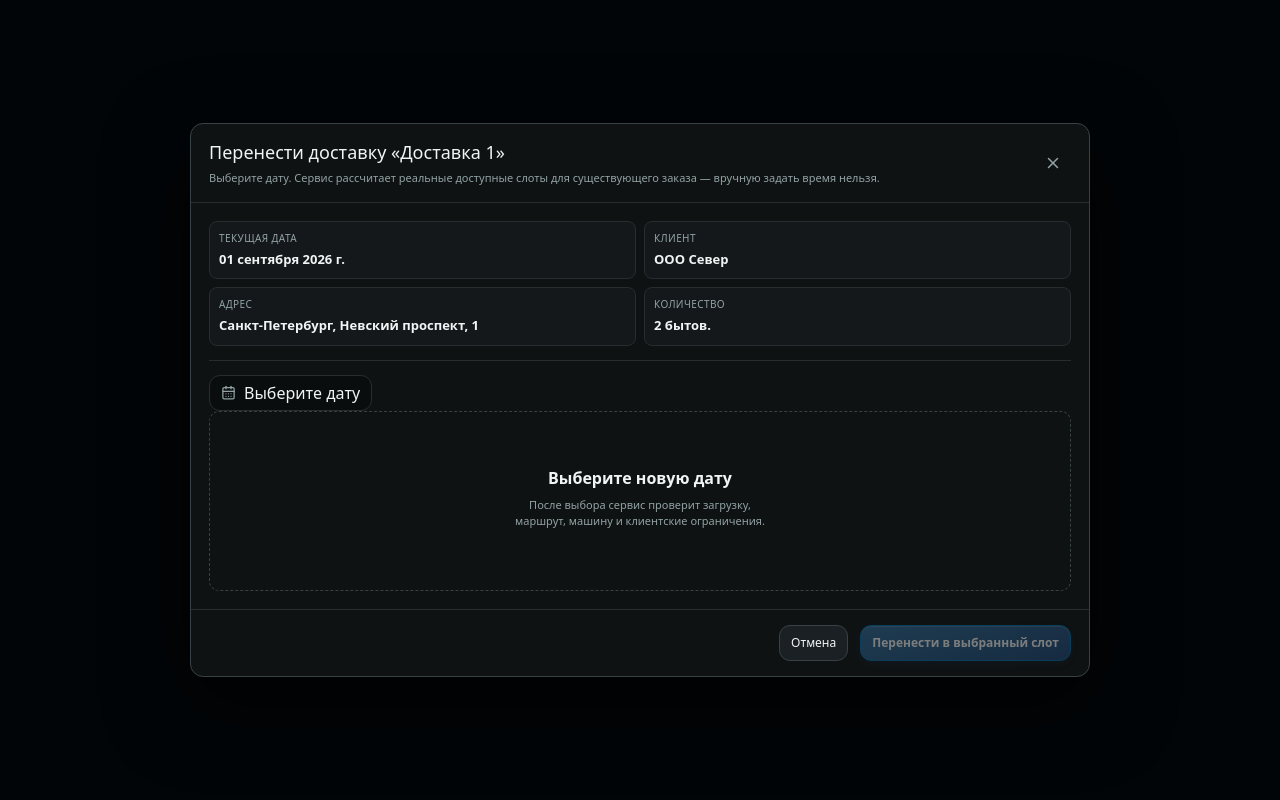
Test: unassigned delivery reschedule › does not allow a manual or empty-slot transfer
The image size is (1280, 800).
Click the button with aria-label "Новая дата доставки": (291, 393) [209,375,372,411]
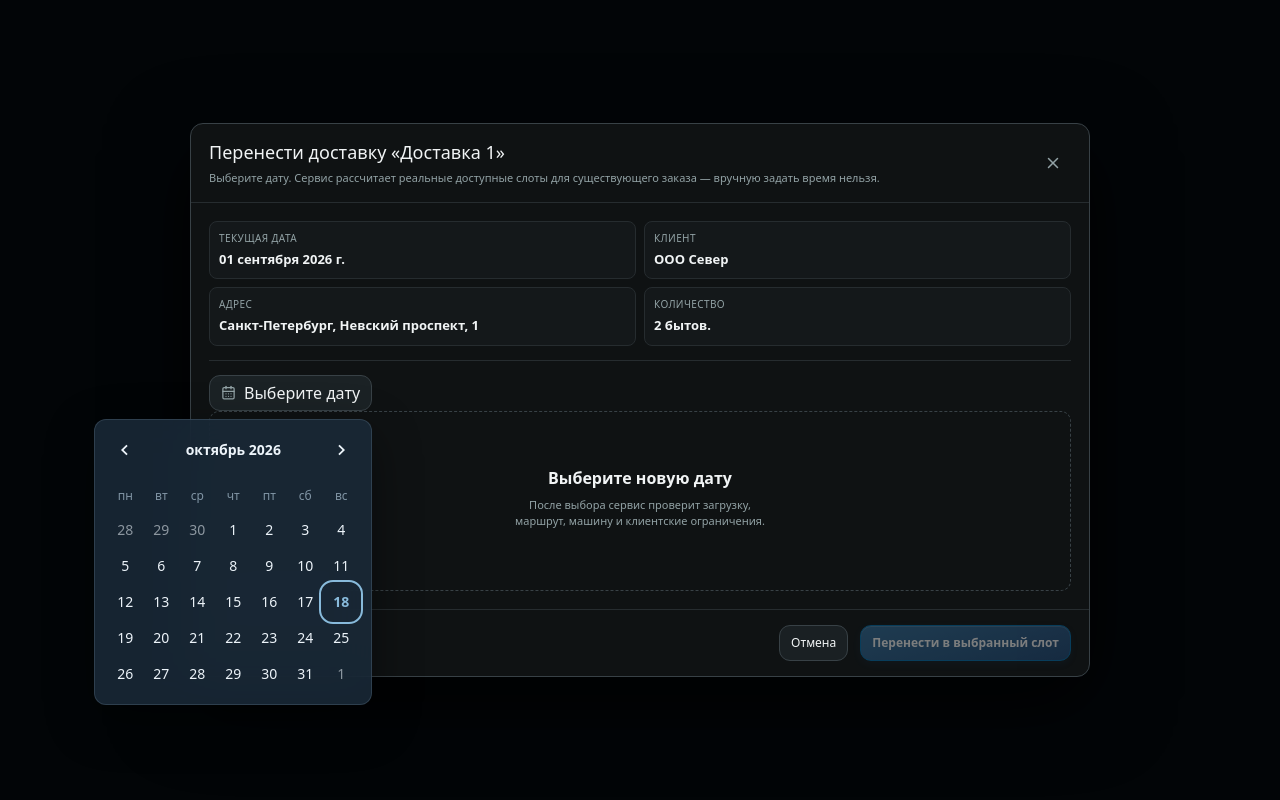
Click the button named "Предыдущий месяц": (125, 450) [107,432,143,468]
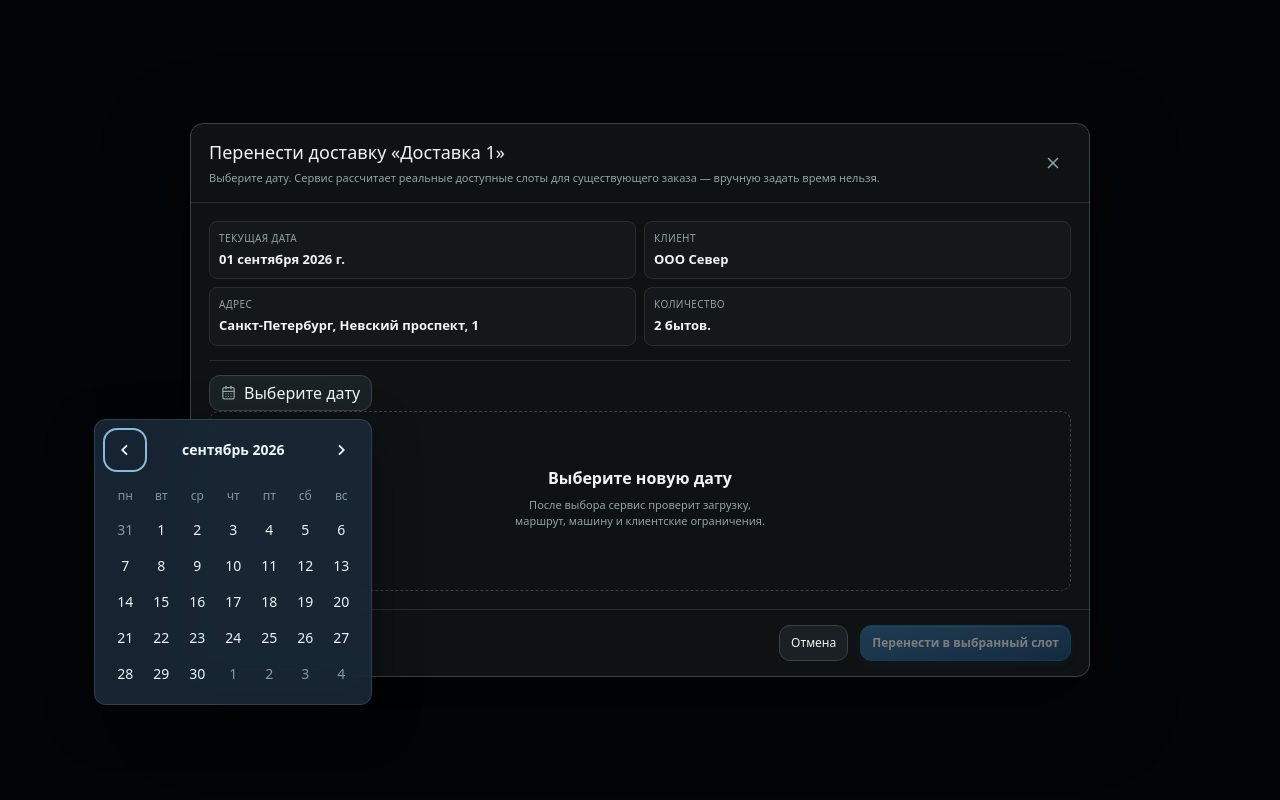
Click the button named "среда, 2 сентября 2026 г.": (197, 530) [179,512,215,548]
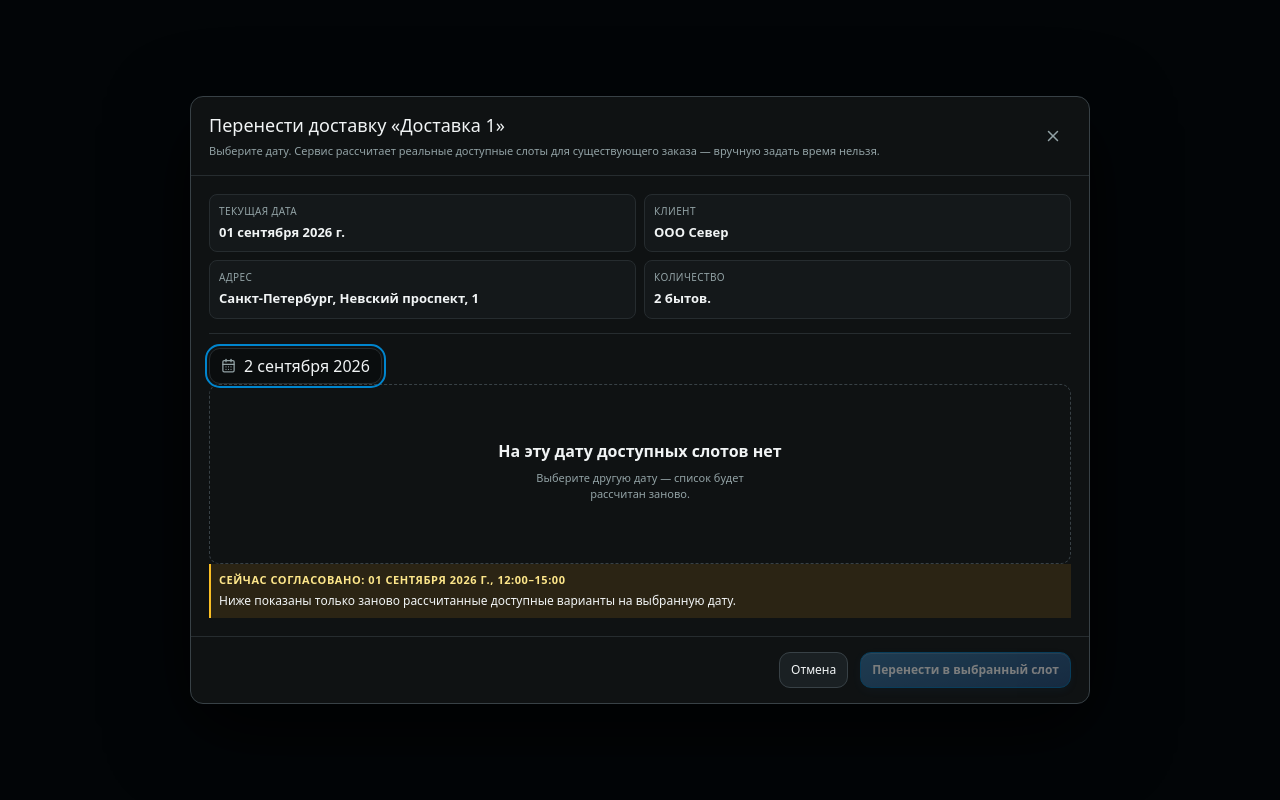
Expected: the button "Перенести в выбранный слот" is disabled, [860,652,1071,688]
Result: the text "На эту дату доступных слотов нет" is shown at [498,439,782,463]
